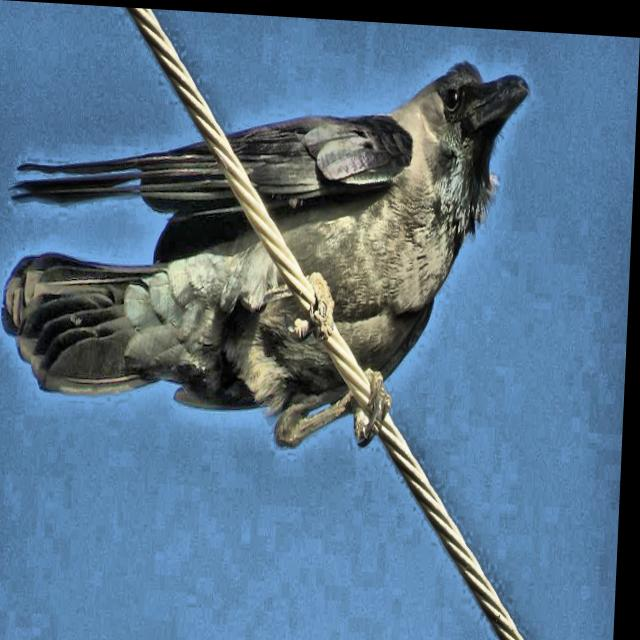crow: (5, 1, 560, 508)
